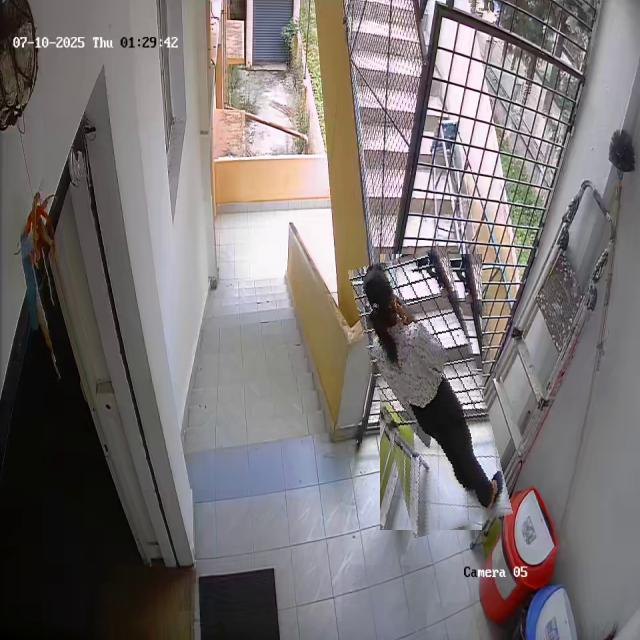person: (364, 250, 498, 534)
